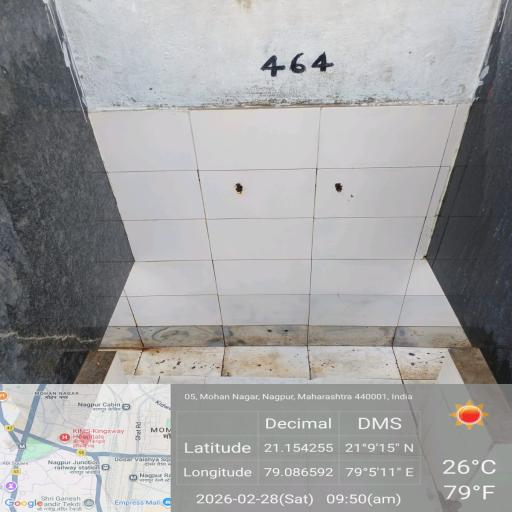clean_floor: (80, 14, 463, 291)
partial_dirty_floor: (62, 258, 512, 512)
